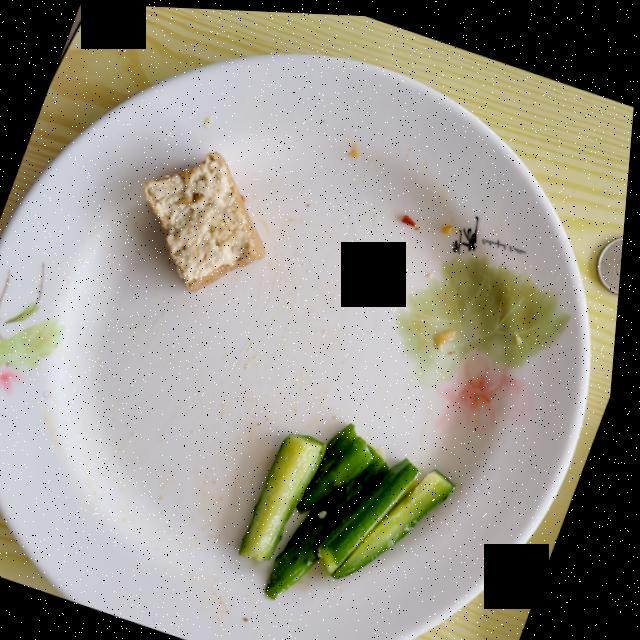coin: (600, 230, 627, 289)
cucumber: (247, 419, 462, 596)
egg tofu: (144, 149, 268, 289)
